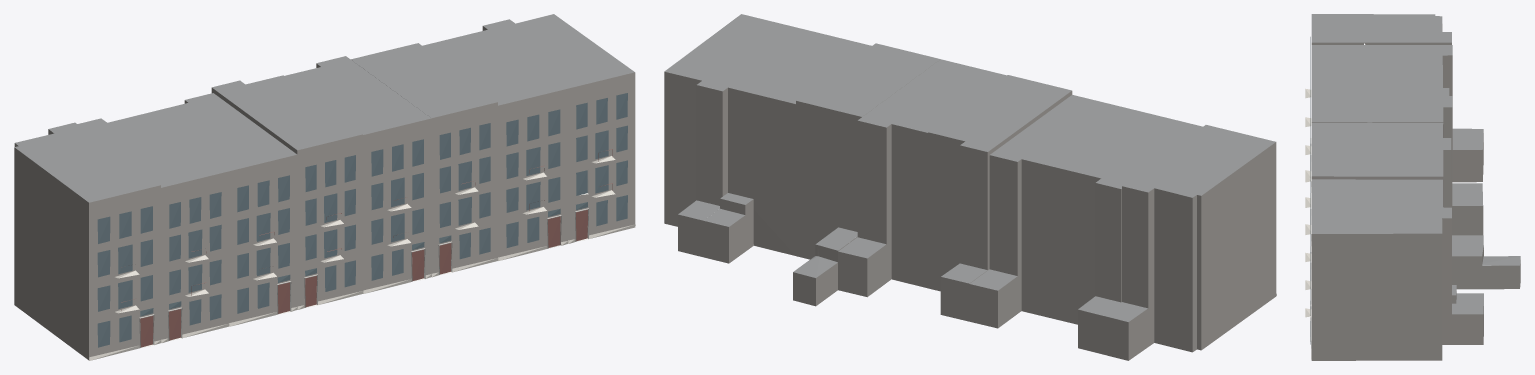
Rendered from chunk-face-maes-31-71-r1.lod2.glb.
3 renders of one model, left to right at view 1: azimuth 30°, elevation 25°; view 2: azimuth 150°, elevation 25°; view 3: azimuth 270°, elevation 25°, orthographic. The views are drawn at different scales.
Parts seen in each view (by area): view 1: lod2; view 2: lod2; view 3: lod2.
Part boxes in pixels (x1=…): lod2: x1=14, y1=14, x2=635, y2=360; lod2: x1=664, y1=14, x2=1276, y2=360; lod2: x1=1305, y1=14, x2=1520, y2=360.
Bounding box in the file's own units: 50.36 × 14.05 × 21.06.
